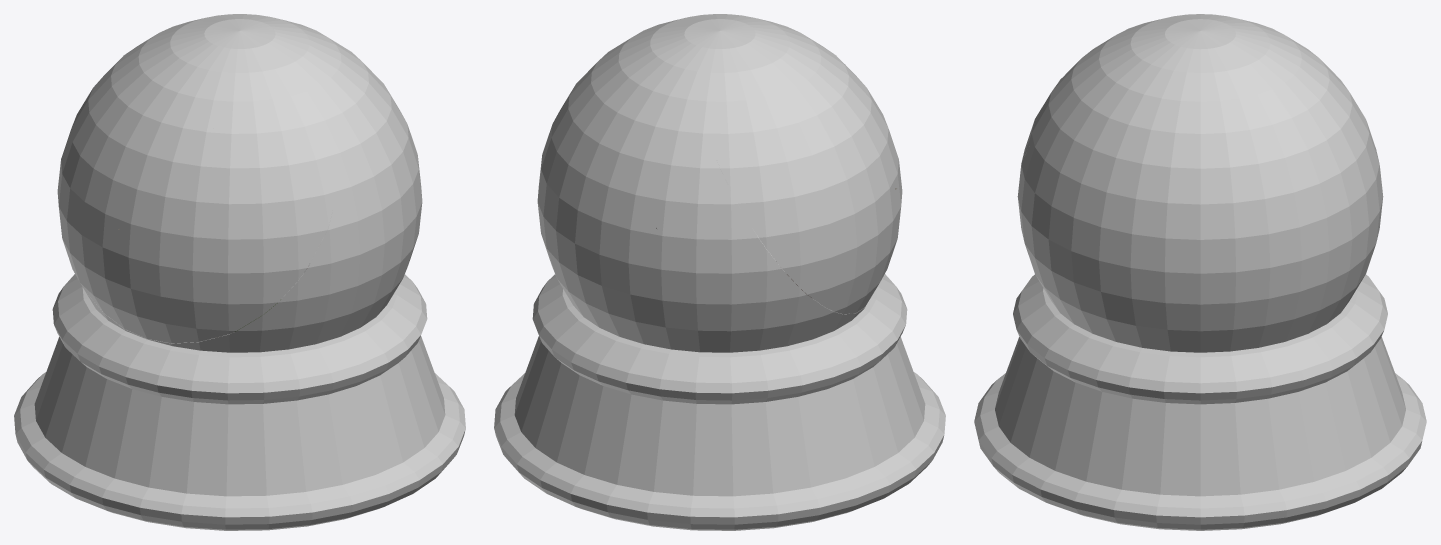
The model's file is GlobeBroken.fbx.
The picture shows the model from 3 angles, left to right: view 1: azimuth 30°, elevation 25°; view 2: azimuth 150°, elevation 25°; view 3: azimuth 270°, elevation 25°; orthographic projection.
Visible parts, largest first — view 1: Base, Globe.021, Globe.052, Globe.046, Globe.050, Globe.048, Globe.049, Globe.026, Globe.037, Globe.035; view 2: Base, Globe.021, Globe.047, Globe.050, Globe.039, Globe.040, Globe.049, Globe.034, Globe.031, Globe.038, Globe.042, Globe.048 (+6 smaller); view 3: Base, Globe.037, Globe.029, Globe.052, Globe.038, Globe.036, Globe.040, Globe.035, Globe.048, Globe.050, Globe.049, Globe.026 (+9 smaller).
Part boxes in pixels (bbox=[...]): Base: bbox=[14, 239, 465, 530]; Globe.021: bbox=[57, 66, 332, 343]; Globe.052: bbox=[196, 98, 413, 249]; Globe.046: bbox=[85, 210, 409, 352]; Globe.050: bbox=[113, 22, 374, 130]; Globe.048: bbox=[161, 19, 346, 82]; Globe.049: bbox=[170, 14, 288, 56]; Globe.026: bbox=[340, 57, 407, 161]; Globe.037: bbox=[383, 153, 422, 308]; Globe.035: bbox=[277, 18, 360, 60]; Base: bbox=[494, 231, 945, 530]; Globe.021: bbox=[716, 64, 902, 314]; Globe.047: bbox=[677, 159, 836, 352]; Globe.050: bbox=[670, 20, 843, 150]; Globe.039: bbox=[571, 183, 688, 303]; Globe.040: bbox=[541, 144, 642, 254]; Globe.049: bbox=[667, 17, 772, 76]; Globe.034: bbox=[570, 70, 671, 140]; Globe.031: bbox=[547, 129, 676, 183]; Globe.038: bbox=[537, 172, 693, 351]; Globe.042: bbox=[563, 250, 693, 350]; Globe.048: bbox=[667, 14, 794, 92]; Base: bbox=[974, 274, 1426, 530]; Globe.037: bbox=[1065, 229, 1281, 352]; Globe.029: bbox=[1097, 160, 1309, 228]; Globe.052: bbox=[1024, 48, 1113, 274]; Globe.038: bbox=[1253, 240, 1370, 348]; Globe.036: bbox=[1217, 78, 1313, 168]; Globe.040: bbox=[1279, 122, 1378, 243]; Globe.035: bbox=[1152, 63, 1247, 156]; Globe.048: bbox=[1112, 14, 1298, 101]; Globe.050: bbox=[1071, 20, 1339, 132]; Globe.049: bbox=[1157, 15, 1275, 63]; Globe.026: bbox=[1078, 95, 1174, 193].
Size of the model in its own units: 336 by 337 by 336.
